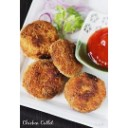cutlet: (21, 58, 64, 99), (68, 72, 109, 110), (18, 21, 58, 57), (49, 40, 86, 77)
